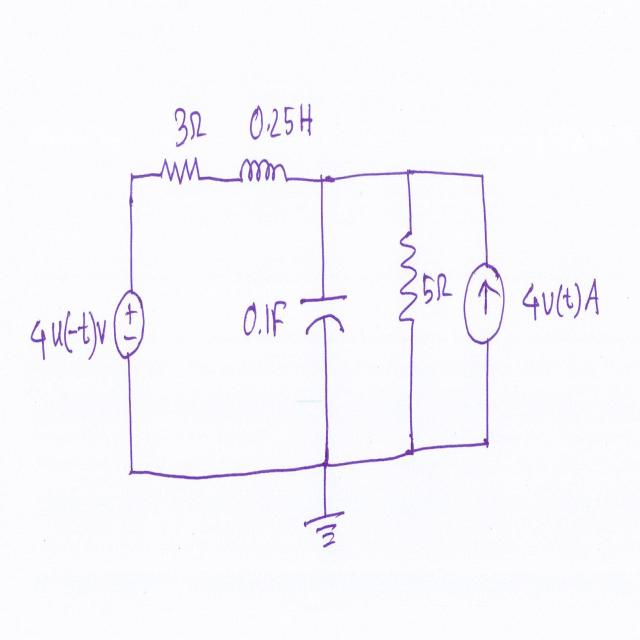capacitor: (297, 284, 352, 345)
current_source: (462, 259, 506, 357)
ground: (298, 500, 350, 563)
inductor: (234, 152, 290, 193)
resistor: (394, 225, 420, 336), (156, 152, 204, 196)
voltage_source: (112, 286, 146, 366)
